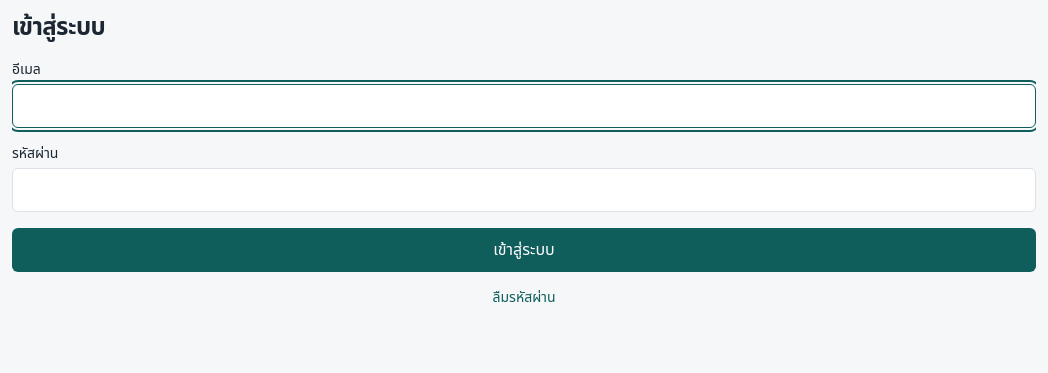
Test: LoginFlow › บัญชีถูกล็อก → แสดงข้อความจาก API
In the field labelled "อีเมล": (524, 106) [12,84,1036,128], type "agent1@rrs.local"
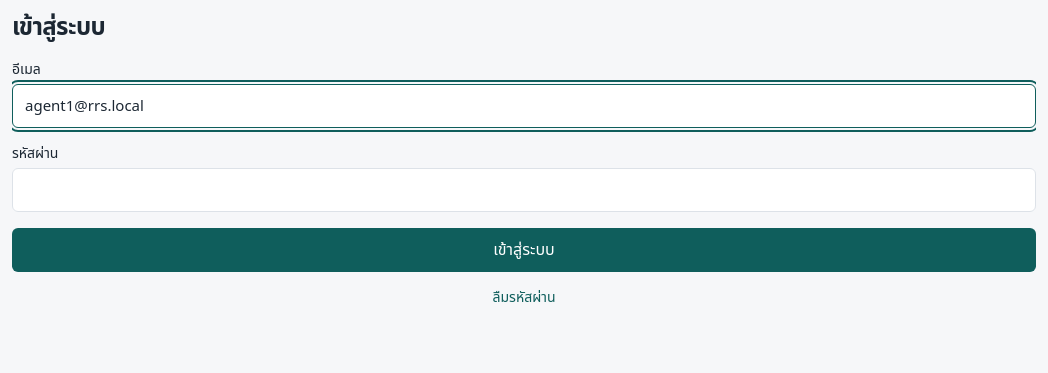
In the password field labelled "รหัสผ่าน": (524, 190) [12,168,1036,212], type "RrsDev#2026"
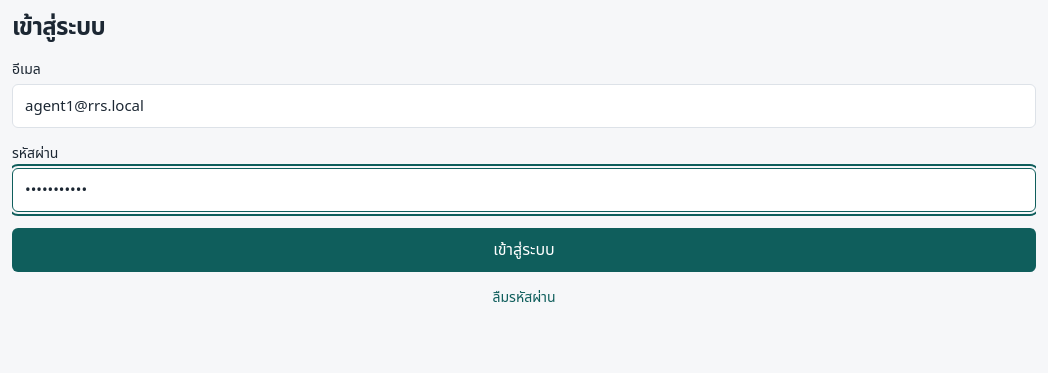
Click the button "เข้าสู่ระบบ": (524, 250) [12,228,1036,272]
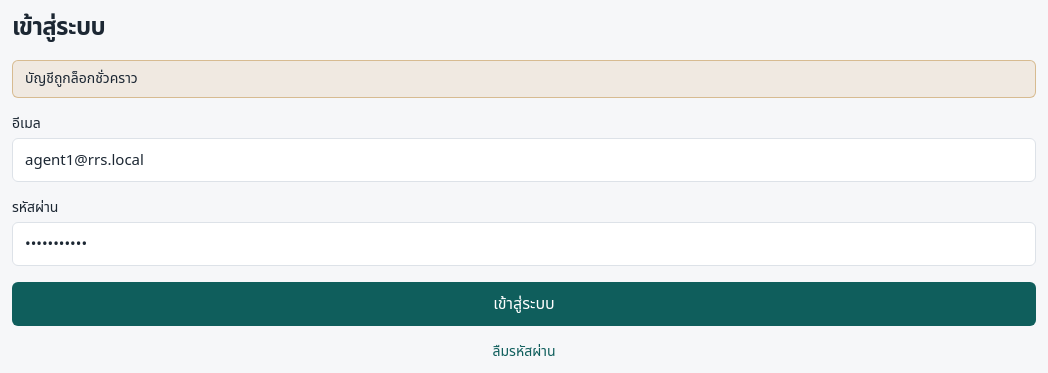
Now the message reads "บัญชีถูกล็อกชั่วคราว", box [25,68,138,89]
